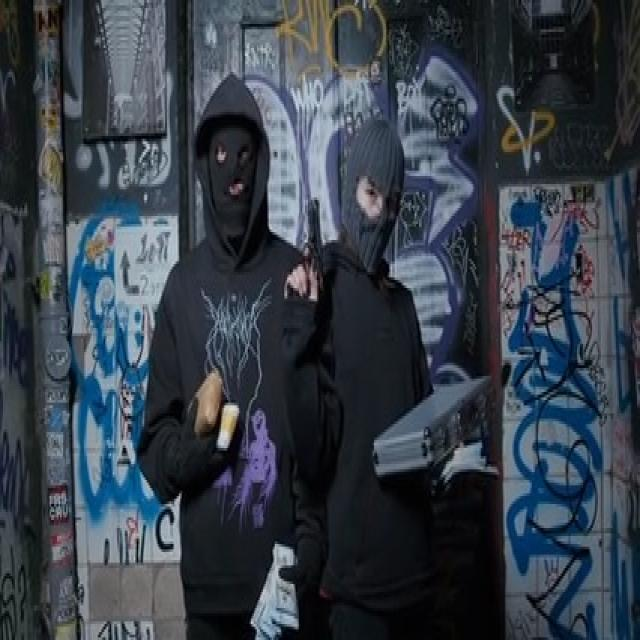Gun_Holder: (283, 196, 336, 324)
Person: (135, 69, 322, 640), (299, 109, 454, 640)
